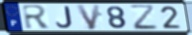2: (159, 5, 183, 30)
8: (106, 6, 128, 29)
J: (55, 6, 74, 29)
R: (21, 4, 52, 30)
V: (75, 4, 102, 31)
Z: (128, 4, 160, 31)
